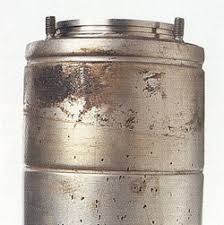rust: (20, 62, 130, 117)
